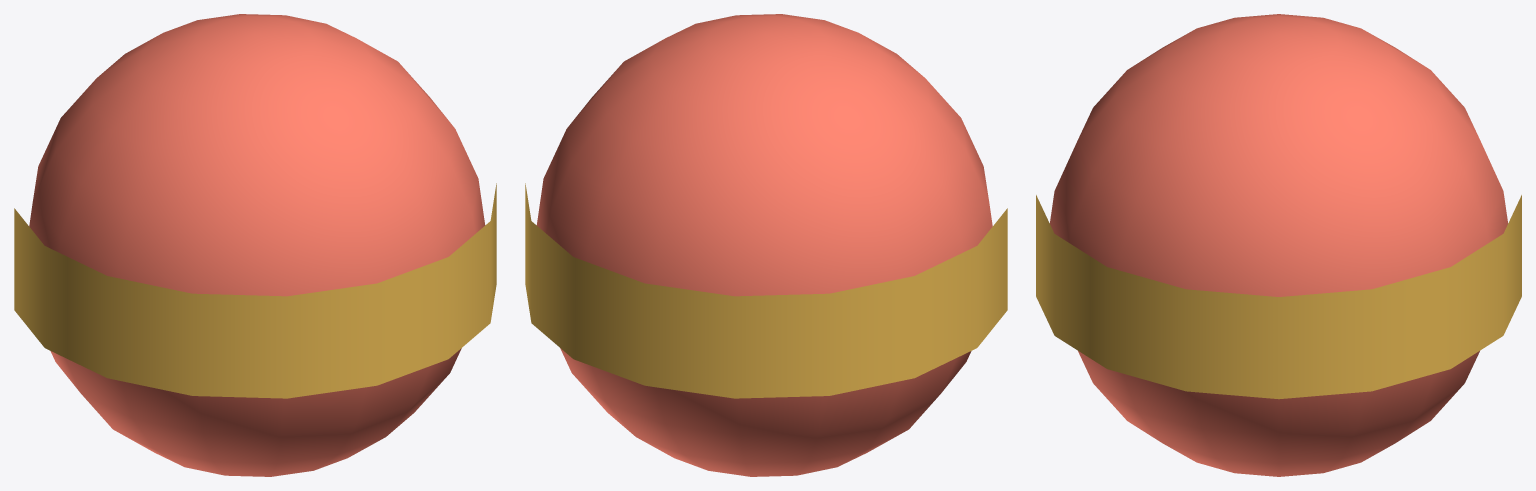
File: snake_red_body.glb
The picture shows the model from 3 angles, left to right: view 1: azimuth 30°, elevation 25°; view 2: azimuth 150°, elevation 25°; view 3: azimuth 270°, elevation 25°; orthographic projection.
Size of the model in its own units: 0.69 by 0.66 by 0.69.
